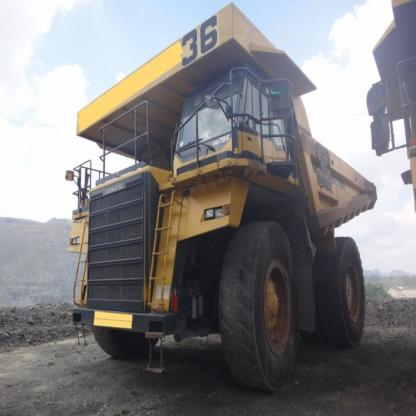dump_truck: (64, 7, 387, 388)
